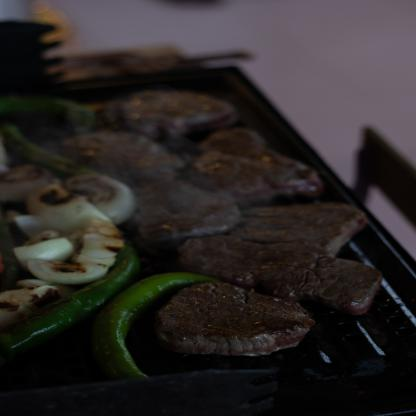Carne: (181, 201, 392, 313), (151, 279, 323, 355), (184, 127, 334, 206), (117, 88, 243, 142)
